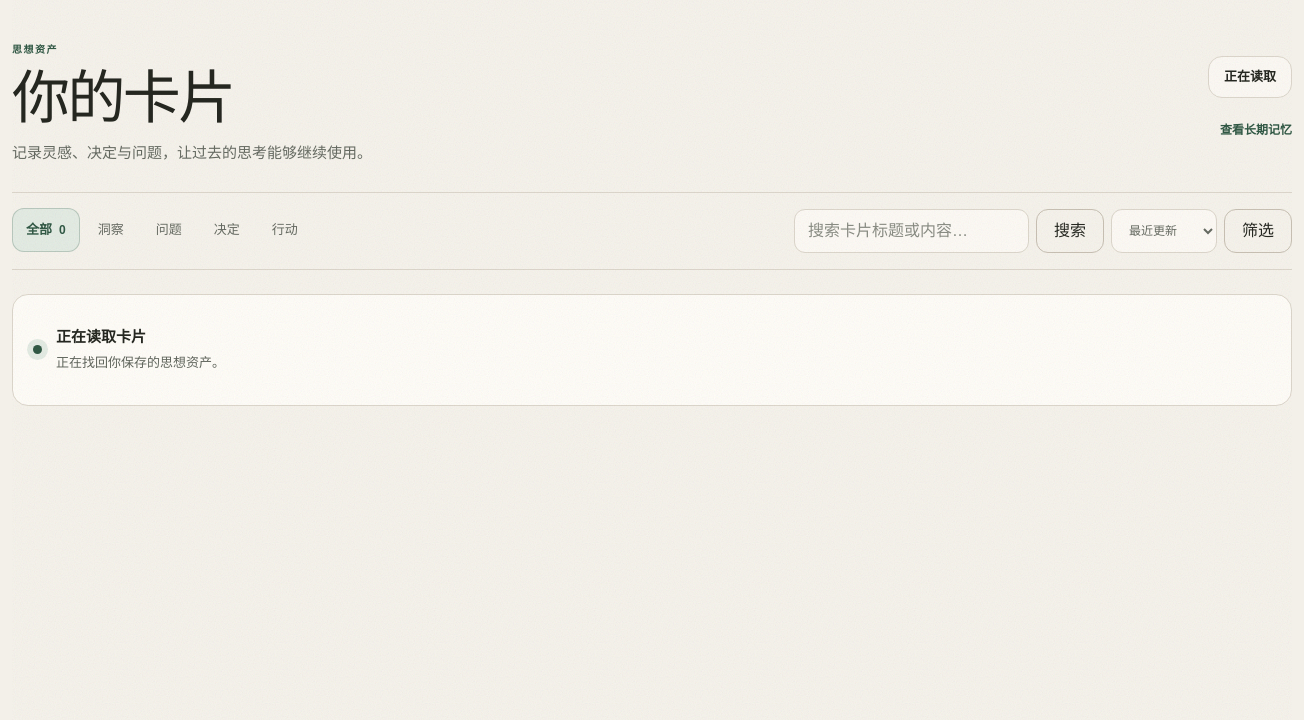
Test: DailyReflectionCardLibrary › ignores an aborted list response after the sort request changes
Select "最早创建" in the dropdown named "卡片排序" at (1164, 231), box 1111,209 -> 1217,253
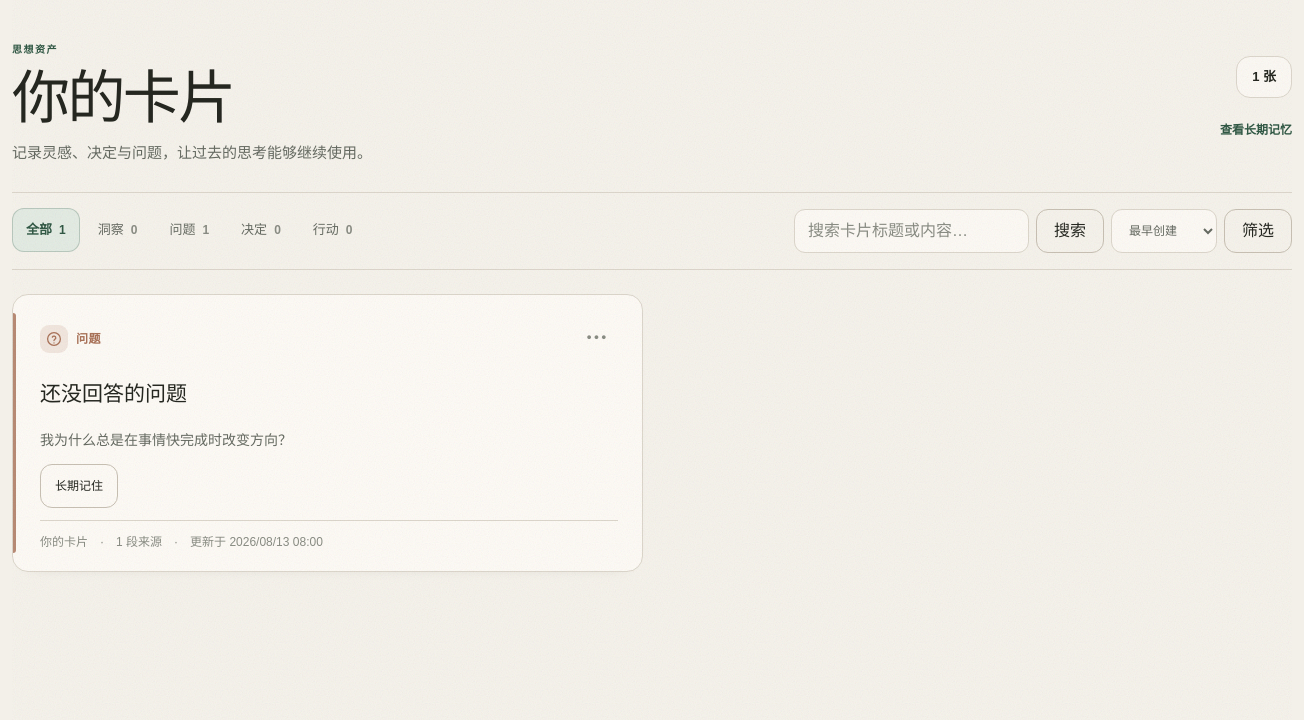
Expected: the button with aria-label "打开卡片：还没回答的问题" is shown, 40,373 -> 618,417
